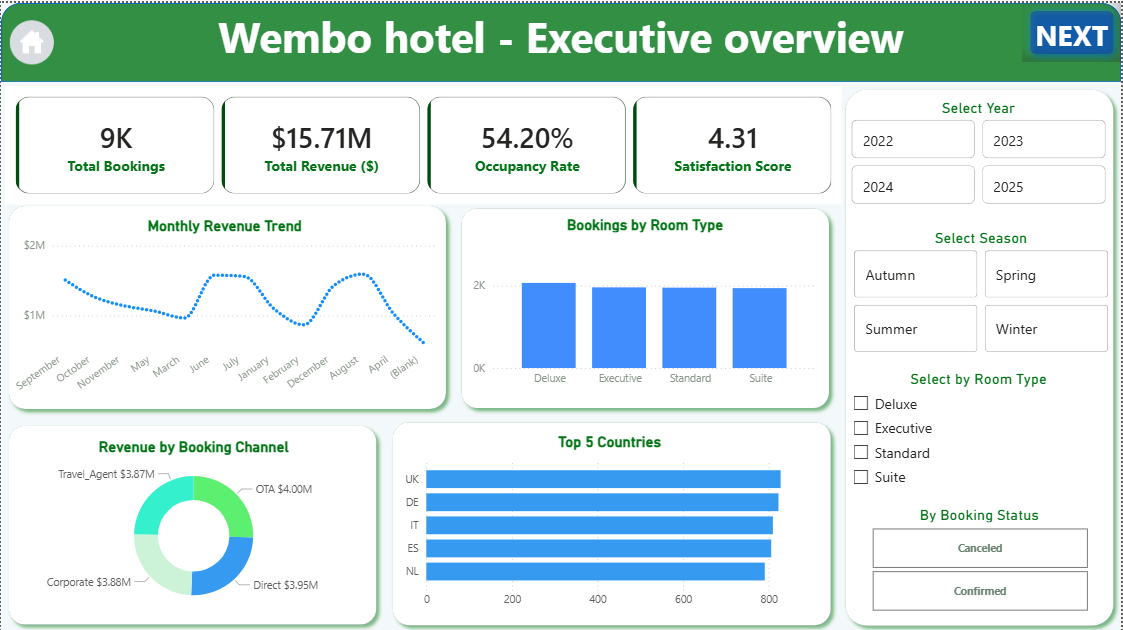

Layout of this report page (visuals, bound fields, positions):
{"tool":"powerbi","page":{"name":"Executive Overview","canvas":[1280,720],"ordinal":1},"visuals":[{"type":"shape","box":[0,0,1280.3,90],"z":0},{"type":"shape","box":[0,473.9,437.9,245.1],"z":1000},{"type":"shape","box":[517.6,225.4,438.3,246.3],"z":2000},{"type":"shape","box":[0,222.7,517.5,250],"z":3000},{"type":"shape","box":[437.9,470.2,518.7,250],"z":4000},{"type":"shape","box":[955.4,89.6,324.7,630.7],"z":5000},{"type":"cardVisual","fields":{"Data":["hotel_bookings_records.Reservations","hotel_bookings_records.Total Revenue","hotel_bookings_records.Occupancy Rate","hotel_bookings_records.Avg Satisfaction"]},"box":[0,89.6,969,145.5],"z":6000},{"type":"lineChart","title":"Monthly Revenue Trend","fields":{"Category":["Calendar.MonthName"],"Y":["hotel_bookings_records.Total Revenue"]},"box":[10,243.8,491.4,220.2],"z":7000},{"type":"clusteredColumnChart","title":"Bookings by Room Type","fields":{"Y":["hotel_bookings_records.Confirmed Reservations"],"Category":["hotel_bookings_records.room_type"]},"box":[534.3,243.5,403.5,204.5],"z":8000},{"type":"donutChart","title":"Revenue by Booking Channel","fields":{"Category":["hotel_bookings_records.booking_channel"],"Y":["hotel_bookings_records.Total Revenue"]},"box":[19.5,496.7,400.7,204.5],"z":9000},{"type":"barChart","title":"Top 5 Countries","fields":{"Category":["hotel_bookings_records.country"],"Y":["hotel_bookings_records.Confirmed Reservations"]},"box":[454,491.4,482.7,209],"z":10000},{"type":"advancedSlicerVisual","title":"Select Year","fields":{"Values":["Calendar.Year"]},"box":[967.5,107.5,300,127.5],"z":11000},{"type":"textbox","box":[0,0,1280,89.6],"z":12000},{"type":"listSlicer","title":"Select by Room Type","fields":{"Values":["hotel_bookings_records.room_type"]},"box":[968.8,417.5,297.5,142.5],"z":13000},{"type":"advancedSlicerVisual","title":"Select Season","fields":{"Values":["hotel_bookings_records.season"]},"box":[970,258.8,300,146.2],"z":14000},{"type":"slicer","title":"By Booking Status","fields":{"Values":["hotel_bookings_records.booking_status"]},"box":[970.3,574.7,296.1,126.9],"z":15000},{"type":"actionButton","box":[1166.8,0,113.2,67.2],"z":15001},{"type":"image","box":[0,11.2,69.7,67.2],"z":15002}]}

Visuals, with their boxes in screenshot pixels (x1, y1, x2, y2), scaled from the page's 1280x720 canvas onto the 1123x630 screenshot:
shape: pyautogui.locateOnScreen(0, 0, 1122, 79)
shape: pyautogui.locateOnScreen(0, 415, 384, 629)
shape: pyautogui.locateOnScreen(454, 197, 839, 413)
shape: pyautogui.locateOnScreen(0, 195, 454, 414)
shape: pyautogui.locateOnScreen(384, 411, 839, 629)
shape: pyautogui.locateOnScreen(838, 78, 1122, 629)
cardVisual - hotel_bookings_records.Reservations x hotel_bookings_records.Total Revenue: pyautogui.locateOnScreen(0, 78, 850, 206)
"Monthly Revenue Trend" lineChart: pyautogui.locateOnScreen(9, 213, 440, 406)
"Bookings by Room Type" clusteredColumnChart: pyautogui.locateOnScreen(469, 213, 823, 392)
"Revenue by Booking Channel" donutChart: pyautogui.locateOnScreen(17, 435, 369, 614)
"Top 5 Countries" barChart: pyautogui.locateOnScreen(398, 430, 822, 613)
"Select Year" advancedSlicerVisual: pyautogui.locateOnScreen(849, 94, 1112, 206)
textbox: pyautogui.locateOnScreen(0, 0, 1122, 78)
"Select by Room Type" listSlicer: pyautogui.locateOnScreen(850, 365, 1111, 490)
"Select Season" advancedSlicerVisual: pyautogui.locateOnScreen(851, 226, 1114, 354)
"By Booking Status" slicer: pyautogui.locateOnScreen(851, 503, 1111, 614)
actionButton: pyautogui.locateOnScreen(1024, 0, 1122, 59)
image: pyautogui.locateOnScreen(0, 10, 61, 69)
